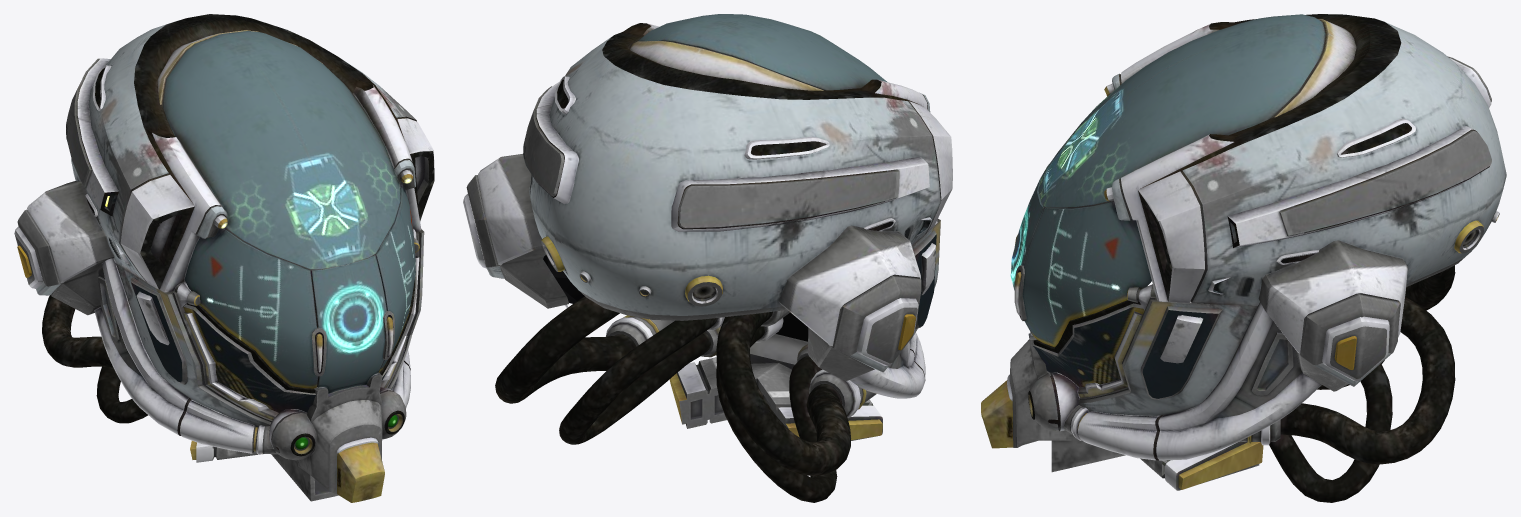
Rendered from helmet-v1.glb.
3 views of the same model, side by side, from view 1: azimuth 30°, elevation 25°; view 2: azimuth 150°, elevation 25°; view 3: azimuth 270°, elevation 25° (orthographic). The views are drawn at different scales.
Parts seen in each view (by area): view 1: node_damagedHelmet_-6514; view 2: node_damagedHelmet_-6514; view 3: node_damagedHelmet_-6514.
Part boxes in pixels (x1,y1,x2,y2): node_damagedHelmet_-6514: (14, 14, 434, 502); node_damagedHelmet_-6514: (463, 14, 952, 502); node_damagedHelmet_-6514: (981, 14, 1506, 502).
Size of the model in its own units: 1.89 by 1.8 by 2.
1 material, 1 textured.
